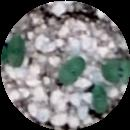Basil: (0, 34, 26, 68), (57, 58, 83, 89), (89, 87, 112, 114), (103, 59, 130, 80)
